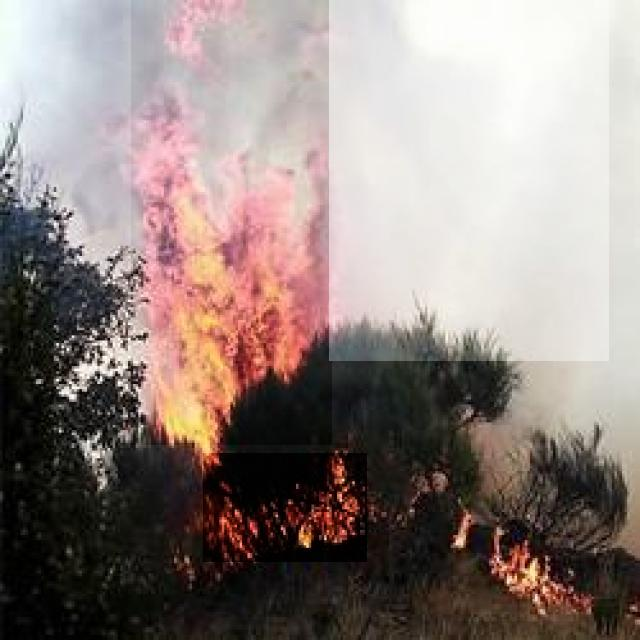Fire: (131, 0, 332, 445), (204, 453, 368, 562), (453, 516, 579, 621)
Smoke: (329, 0, 609, 361)
